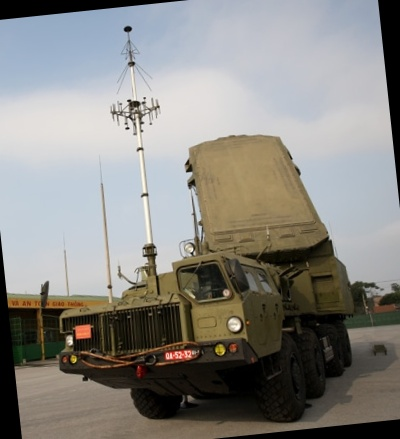plate: (163, 347, 198, 364)
